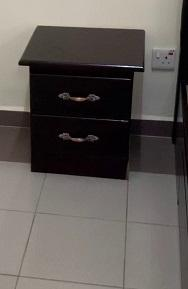cabinet_door: (32, 115, 130, 171), (32, 73, 131, 115)
handle: (57, 129, 101, 150), (57, 90, 102, 108)
